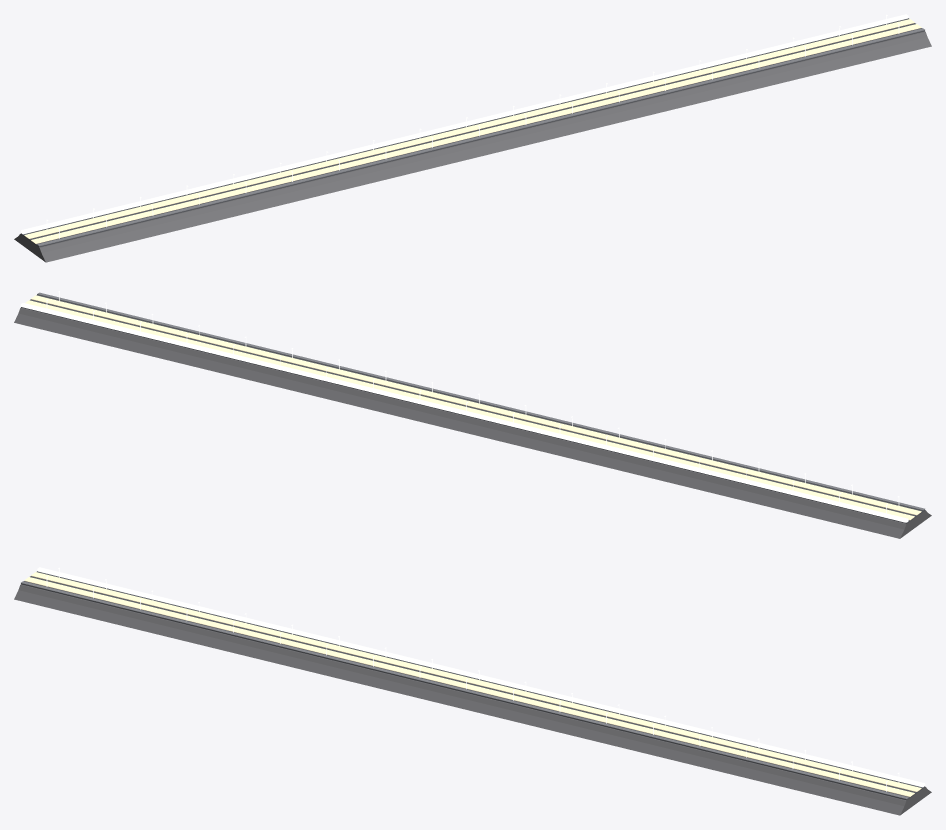
File: johor-causeway.glb
3 renders of one model, top to bottom at view 1: azimuth 30°, elevation 25°; view 2: azimuth 150°, elevation 25°; view 3: azimuth 330°, elevation 25°, orthographic.
Parts seen in each view (by area): view 1: embankment, deck, carriageway-1, carriageway--1, duct, track, lamps; view 2: embankment, carriageway--1, duct, deck, carriageway-1, track, lamps; view 3: embankment, deck, carriageway-1, carriageway--1, duct, track, lamps.
Boxes of the visible parts, x1,y1,x2,y2 form: embankment: [14, 31, 931, 262]; deck: [21, 18, 924, 247]; carriageway-1: [24, 19, 914, 238]; carriageway--1: [31, 24, 921, 243]; duct: [20, 14, 908, 234]; track: [37, 28, 924, 246]; lamps: [46, 14, 899, 238]; embankment: [14, 307, 931, 538]; carriageway--1: [31, 295, 921, 515]; duct: [20, 303, 908, 522]; deck: [21, 294, 924, 523]; carriageway-1: [25, 300, 914, 520]; track: [37, 292, 924, 510]; lamps: [46, 291, 899, 513]; embankment: [14, 584, 931, 815]; deck: [21, 571, 924, 800]; carriageway-1: [31, 572, 921, 791]; carriageway--1: [24, 577, 914, 796]; duct: [37, 567, 925, 787]; track: [21, 581, 908, 799]; lamps: [46, 567, 899, 791].
Size of the model in its own units: 1056 by 23.9 by 66.
